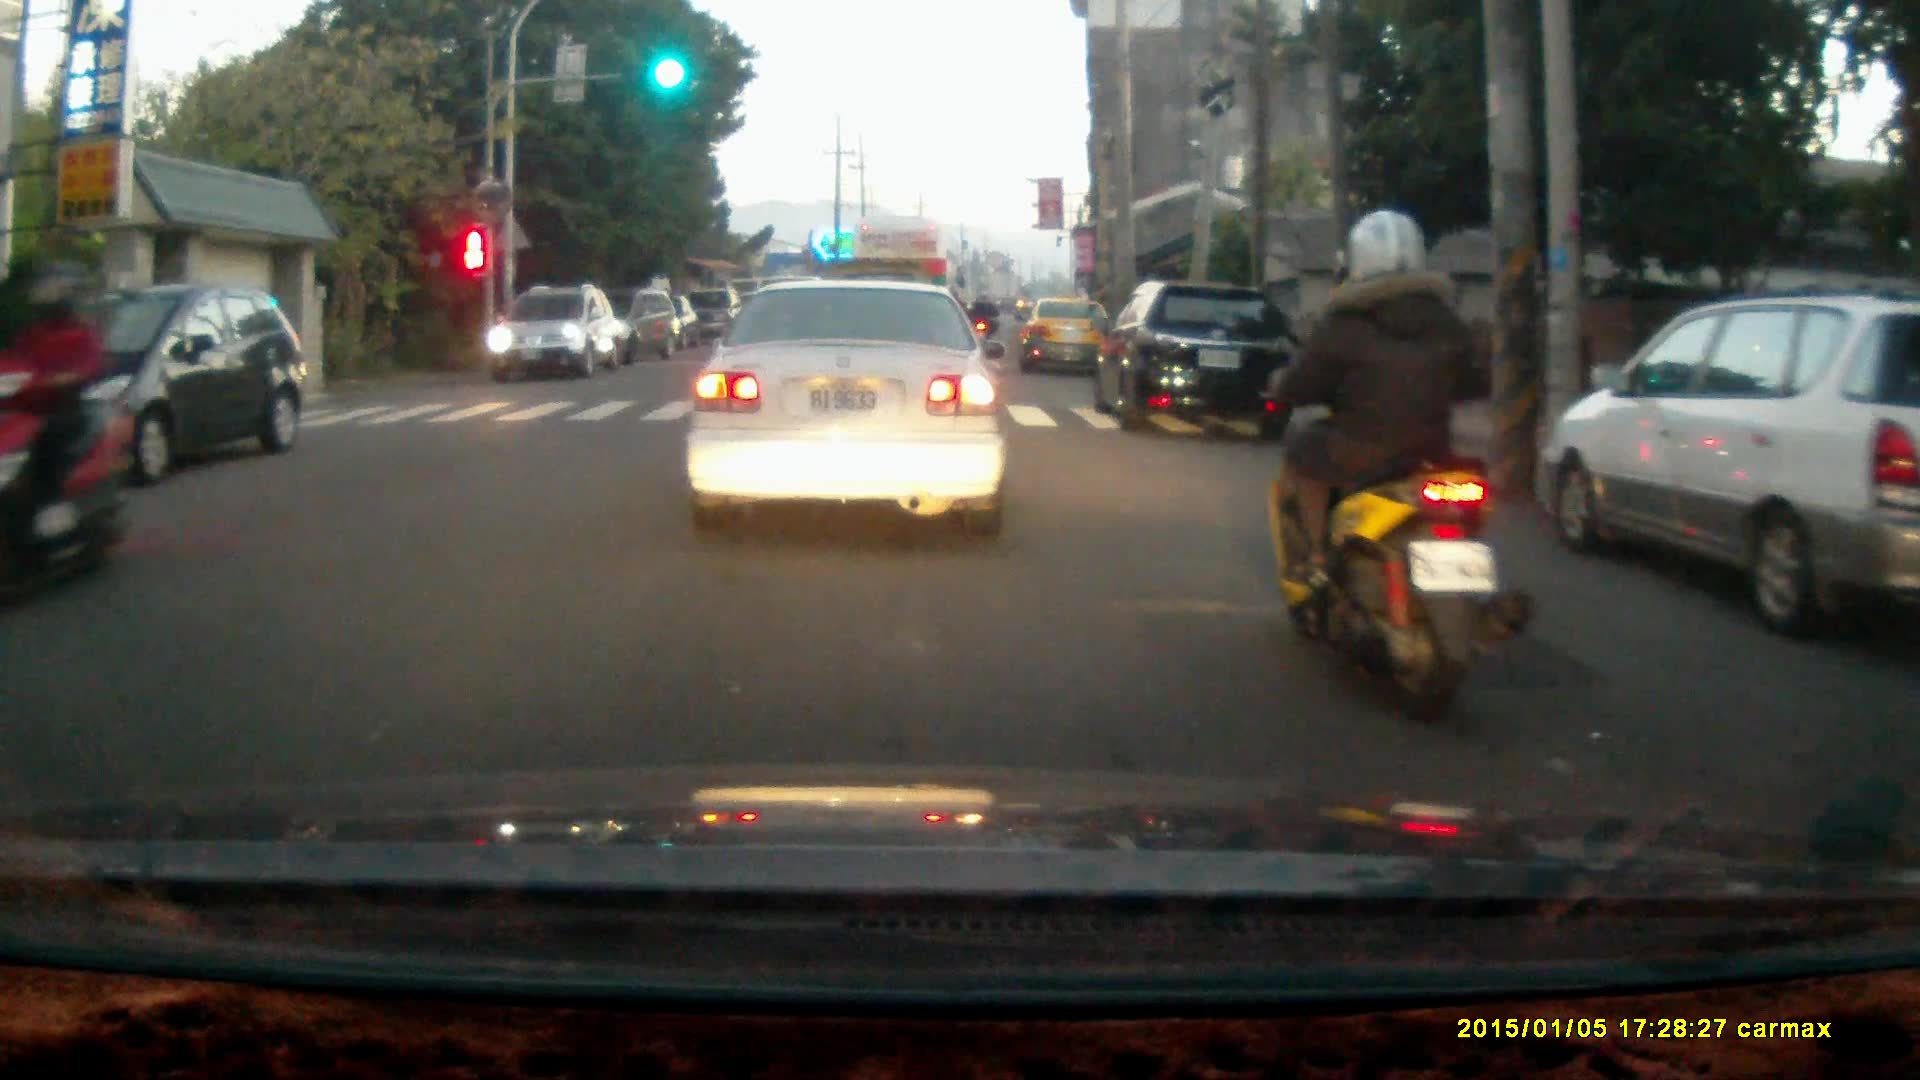rider: (1250, 211, 1542, 727), (0, 252, 129, 611)
vehicle: (1547, 296, 1920, 644), (685, 272, 1008, 538), (1, 281, 312, 503), (1090, 276, 1295, 435), (843, 215, 957, 363), (486, 290, 621, 387), (562, 283, 682, 365), (1019, 295, 1119, 381)
